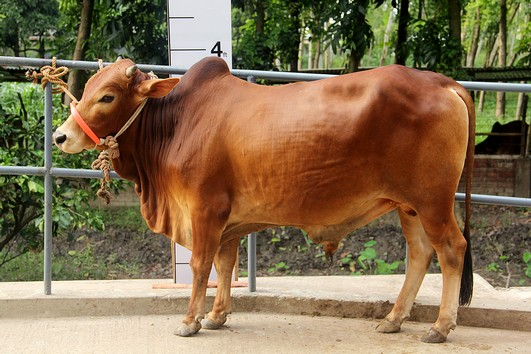cow: (48, 50, 483, 345)
